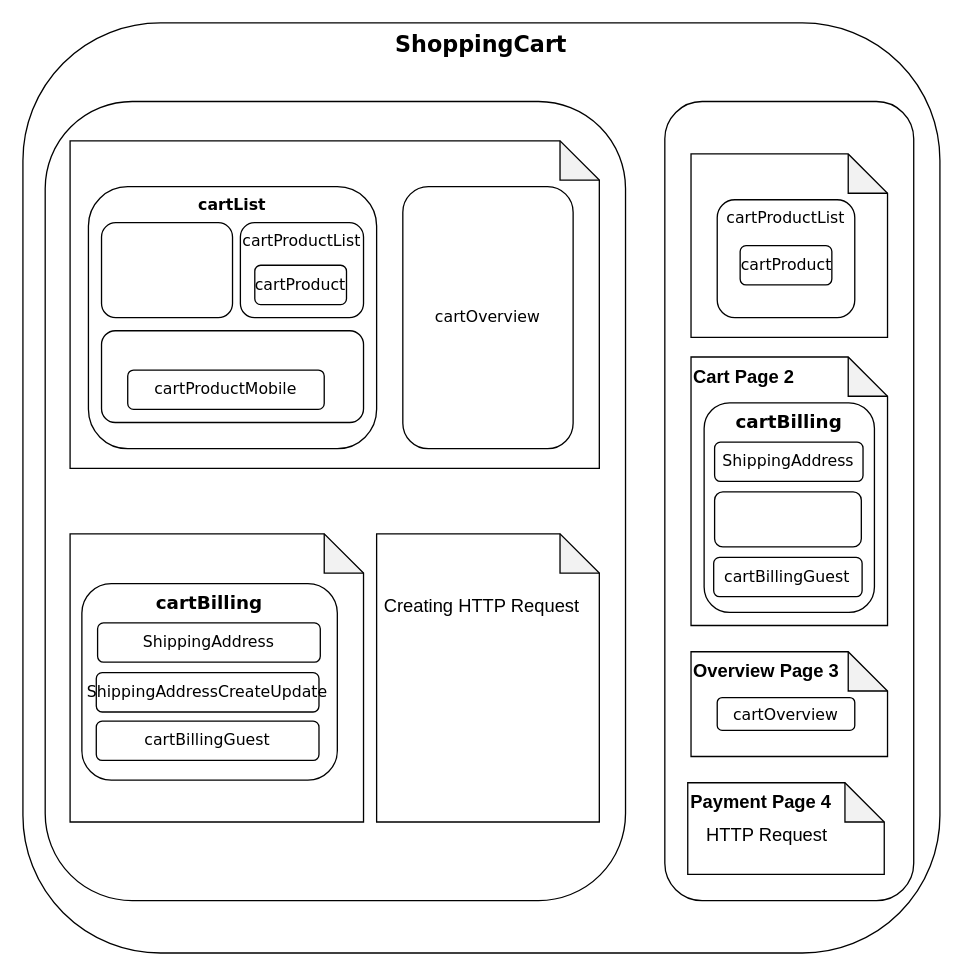
Image size: 963x976. Some labels were removed from this diagram. The box of each missing label's shape, as (x1, y1, x2, y2) in pixels:
Billing Information Page 2: (69, 533, 364, 822)
Cart Page 1: (690, 153, 888, 337)
cartCategoryList: (100, 221, 233, 318)
cartProductListMobile: (100, 329, 364, 422)
Payment Gateway Page 2: (375, 533, 599, 822)
Shipping Cart page 1: (69, 140, 599, 468)
ShippingAddress CreateUpdate: (713, 491, 861, 547)
ShoppingCartDesktop: (44, 100, 626, 901)
ShoppingCartMobile: (664, 100, 914, 901)
